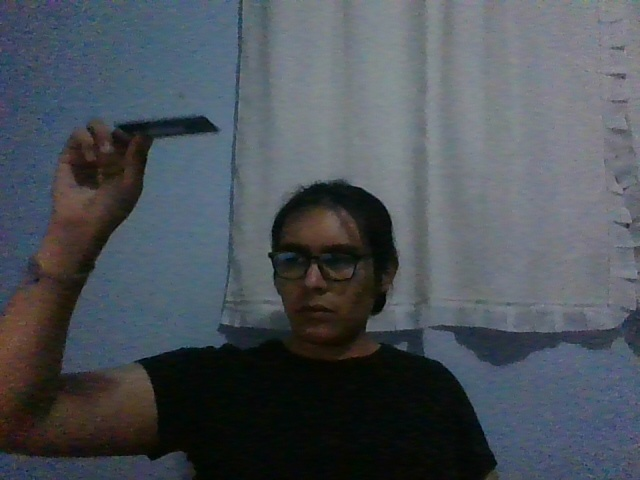tarjeta: (112, 114, 222, 141)
